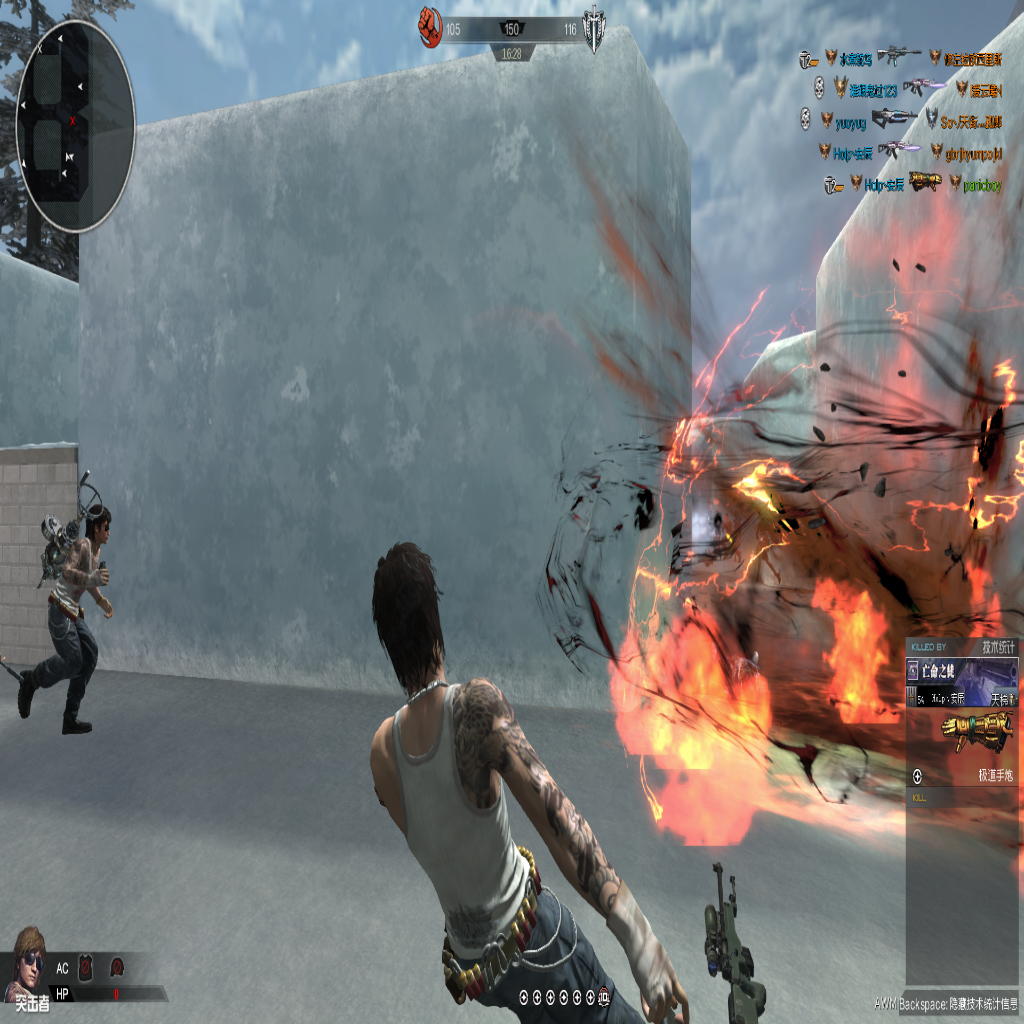tt: (25, 476, 113, 757)
